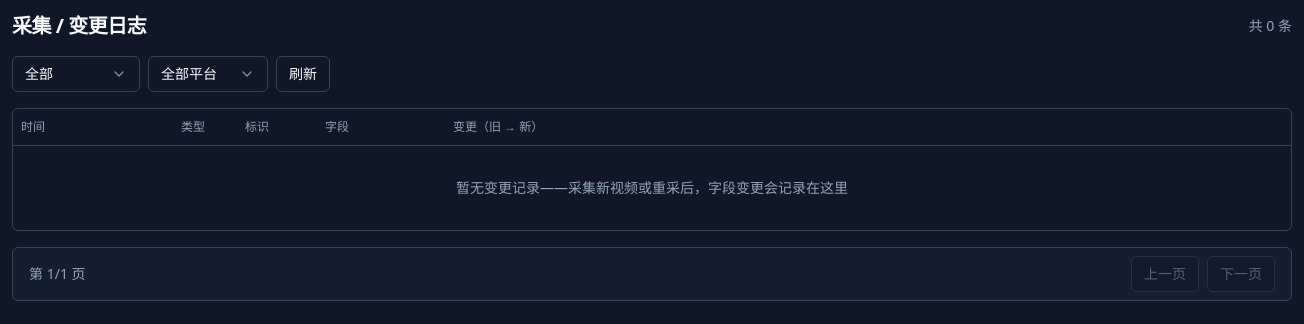
it: 空数据：暂无变更记录 + 说明卡隐藏；有数据时说明卡出现
expect the text "暂无变更记录——采集新视频或重采后，字段变更会记录在这里" is shown: met, box [456,178,848,196]
expect the text "说明：记录视频" is not shown: met
Click the button "刷新".
click(303, 74)  # box [276,56,330,92]
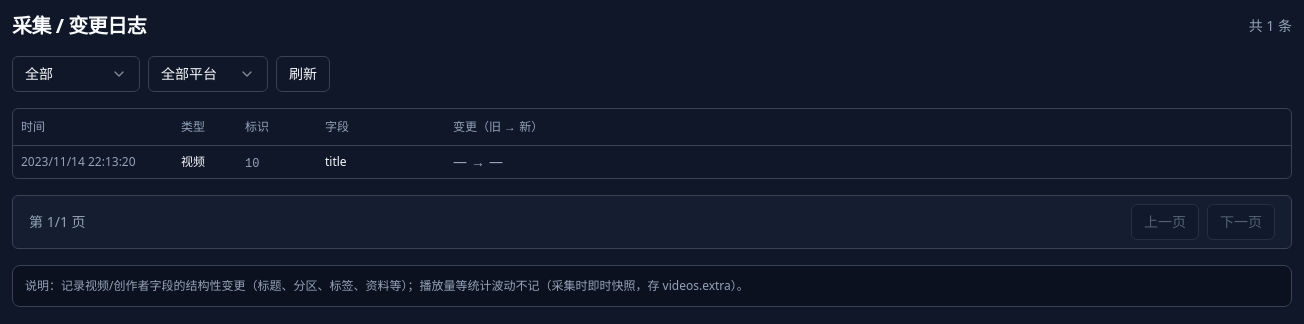
expect the text "说明：记录视频" is shown: met, box [25,276,749,294]
